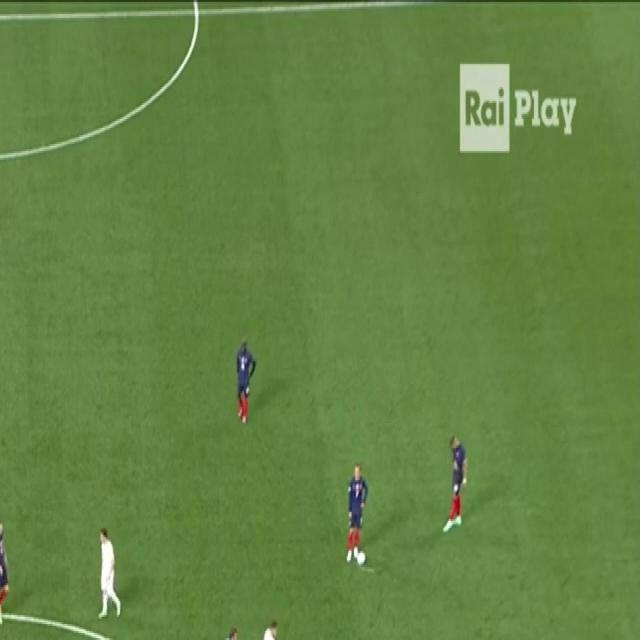ball: (356, 550, 368, 570)
player-white: (440, 430, 470, 538), (342, 459, 369, 569), (95, 525, 122, 625), (233, 334, 260, 425), (0, 515, 10, 631), (259, 613, 287, 640), (211, 622, 248, 640)
